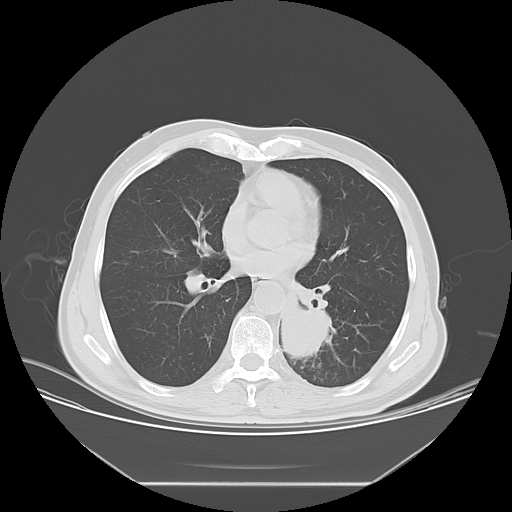nodule: (280, 310, 332, 358)
